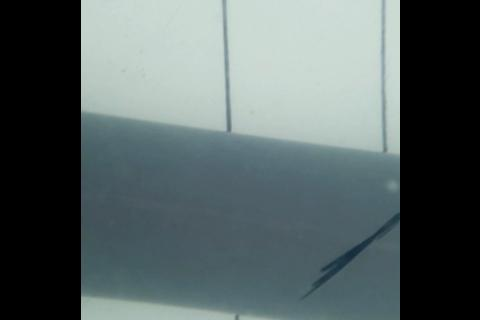keretakan: (296, 204, 400, 303)
